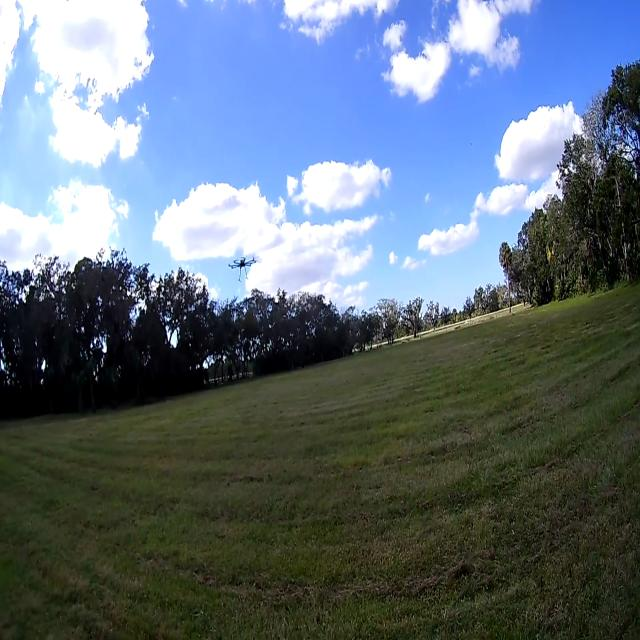drone: (228, 248, 256, 284)
